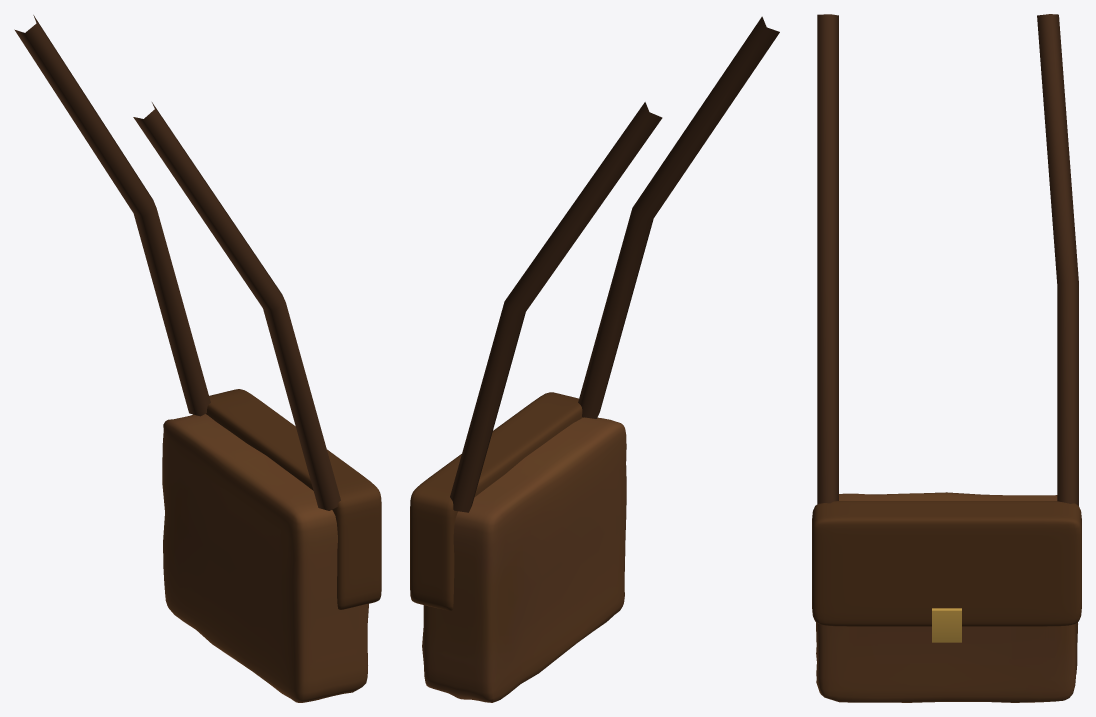
File: bag.glb
3 renders of one model, left to right at view 1: azimuth 30°, elevation 25°; view 2: azimuth 150°, elevation 25°; view 3: azimuth 270°, elevation 25°, orthographic. The views are drawn at different scales.
Parts seen in each view (by area): view 1: bag; view 2: bag; view 3: bag.
Boxes of the visible parts, <box> form: bag: <box>14,15,381,702</box>; bag: <box>410,16,779,702</box>; bag: <box>812,14,1081,702</box>.
Bounding box in the file's own units: 0.2658 × 0.658 × 0.27.
